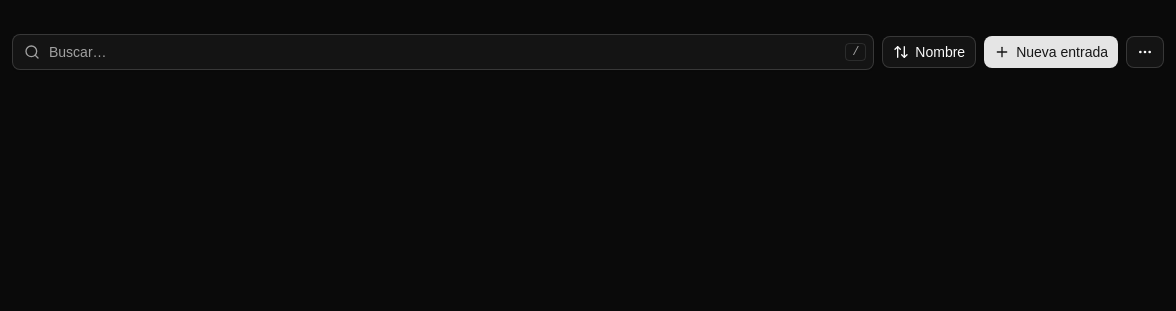
searching › with no matches it does not say the vault is empty
The image size is (1176, 311).
Expected: the text "GitHub" is shown, top-left (77, 37), bottom-right (121, 57)
Type "no existe" into the search field named "Buscar en la vault" at (443, 52), box top-left (12, 34), bottom-right (874, 70)
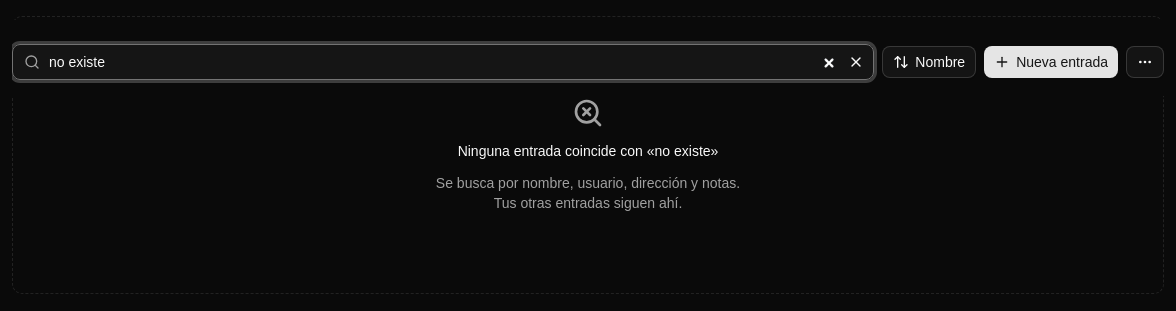
Expected: the text "Ninguna entrada coincide con «no existe»" is shown, top-left (458, 141), bottom-right (718, 161)
Expected: the text "Tus otras entradas siguen ahí" is shown, top-left (436, 175), bottom-right (740, 211)
